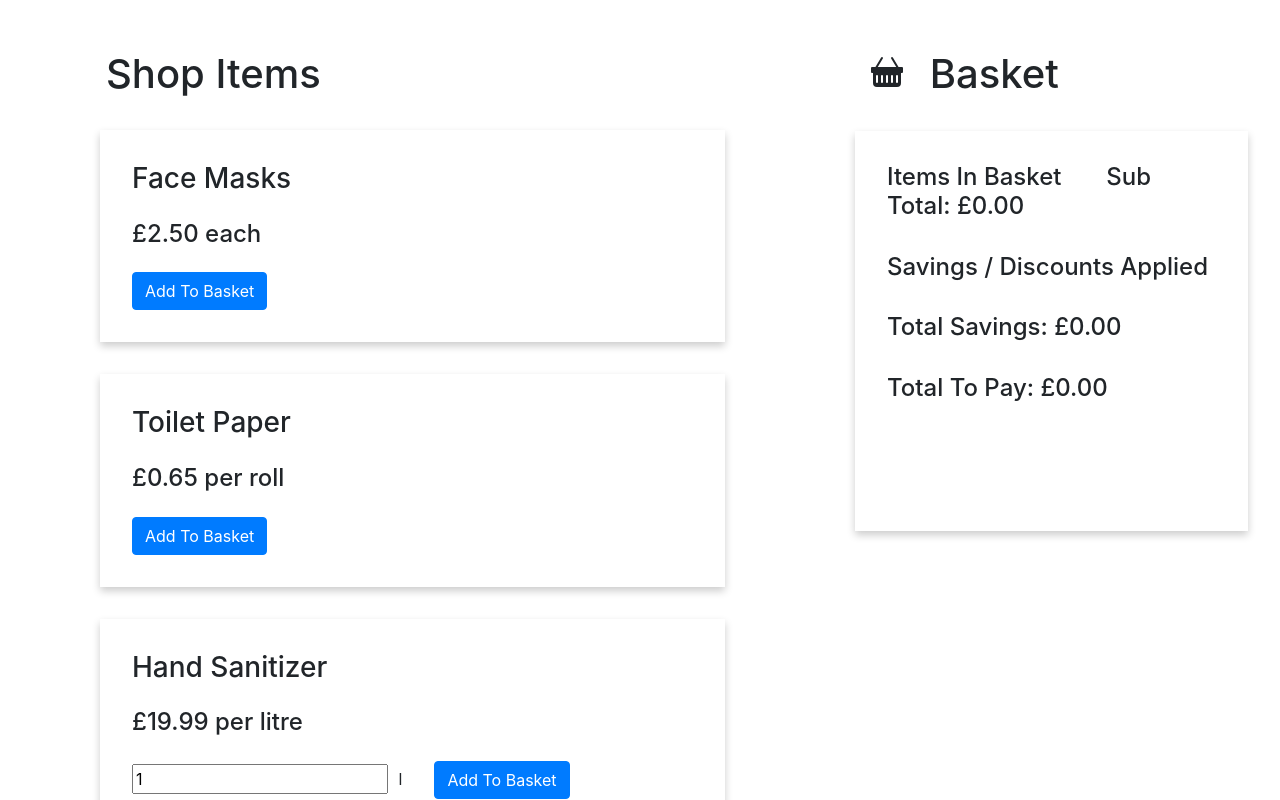
App › should add and remove items from basket
Click the button "Add To Basket" below "£2.50" at (200, 291), box [132,272,267,310]
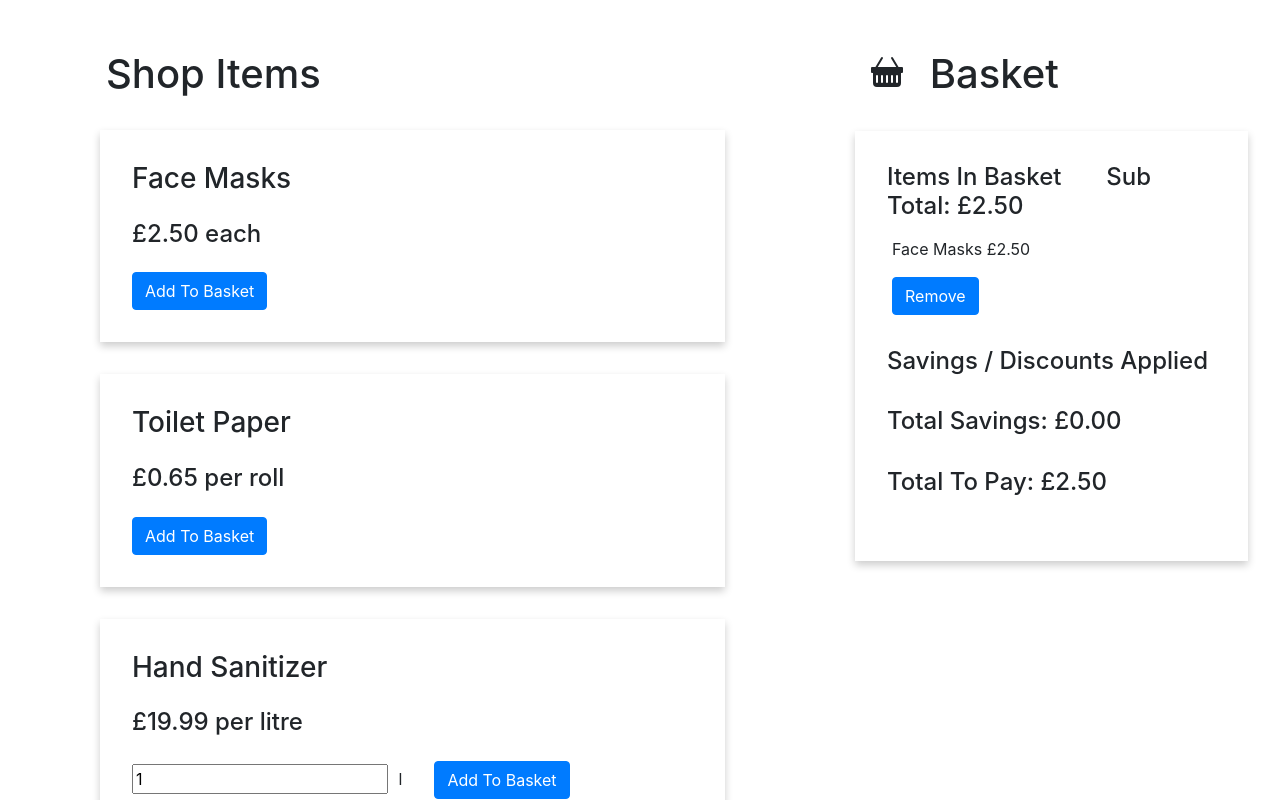
Now the number of elements with test id "basket-selected-item-info" is 1, box [892,239,1030,259]
Now the heading with test id "basket-total-to-pay" shows "2.50", box [1040,467,1107,496]
// remove toilet roll from basket
Click the button "Remove" at (935, 296), box [892,277,979,315]
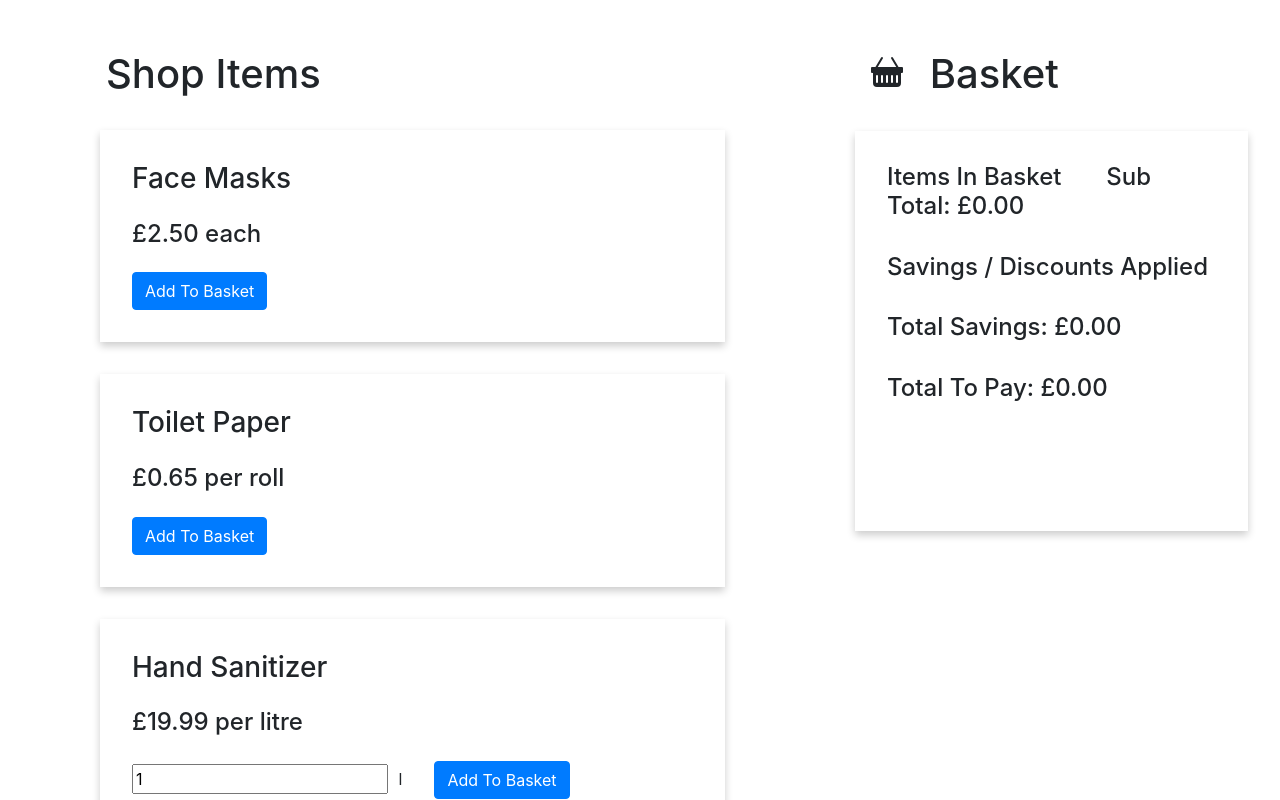
Now no elements with test id "basket-selected-item-info" are shown
Now the heading with test id "basket-total-to-pay" shows "0.00", box [1040,373,1108,402]
